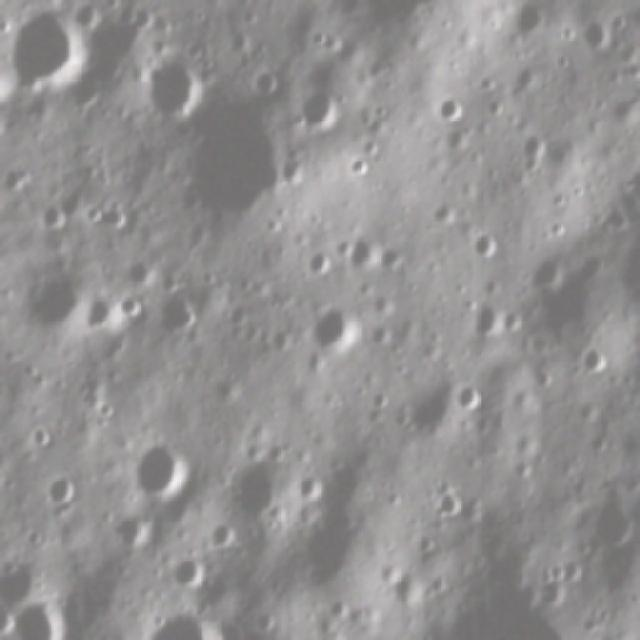crater: (12, 7, 96, 88), (144, 56, 204, 121), (136, 449, 196, 503), (304, 308, 359, 362), (13, 595, 73, 640), (140, 614, 234, 640), (304, 89, 342, 138), (451, 372, 487, 422), (170, 560, 222, 592), (42, 474, 80, 512), (472, 227, 506, 267), (122, 512, 156, 552), (30, 204, 76, 233), (472, 300, 505, 340), (119, 286, 153, 322), (576, 343, 612, 375), (436, 91, 469, 124), (437, 486, 472, 517), (208, 521, 245, 550), (518, 132, 551, 162), (302, 250, 336, 278), (21, 423, 59, 448), (296, 474, 326, 504), (254, 66, 275, 102), (86, 201, 111, 228), (23, 525, 48, 550), (544, 217, 570, 241), (348, 155, 372, 179), (416, 534, 441, 557), (569, 182, 589, 201), (548, 564, 566, 585)
